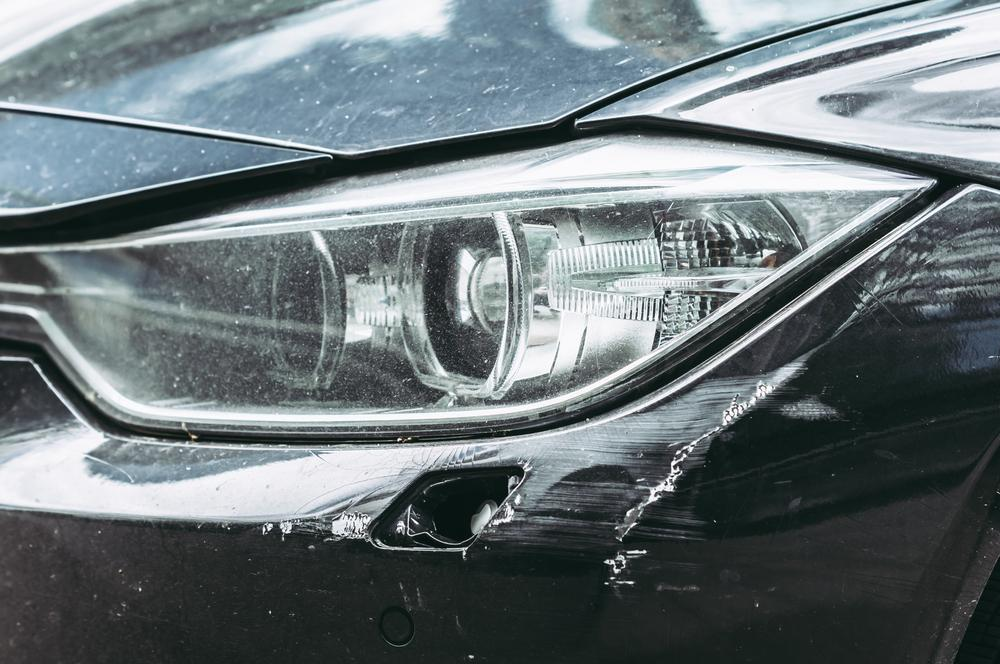scratch: (473, 337, 861, 607)
